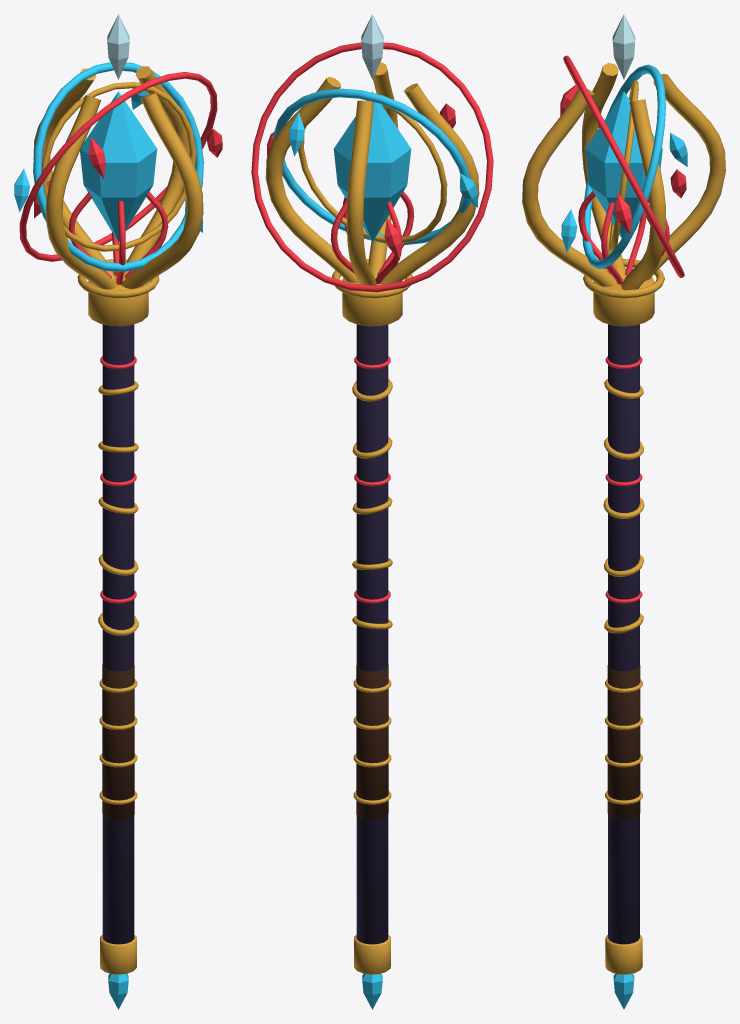
The model's file is magic_staff_t3.obj.
3 views of the same model, side by side, from view 1: azimuth 30°, elevation 25°; view 2: azimuth 150°, elevation 25°; view 3: azimuth 270°, elevation 25° (orthographic).
Visible parts, largest first — view 1: Shaft, CoreOuter, Grip, Claw_3, HaloA, Claw_2, HaloB, GoldHalo, Claw_0, Collar, Claw_1, Pommel (+5 smaller); view 2: Shaft, HaloB, CoreOuter, Grip, Claw_0, HaloA, Claw_2, Claw_1, GoldHalo, Collar, Claw_3, Pommel (+1 smaller); view 3: Shaft, Grip, Claw_3, CoreOuter, Claw_1, Claw_0, HaloA, Claw_2, Collar, HaloB, Pommel, Spire (+5 smaller).
Part boxes in pixels (x1,y1,x2,y2): Shaft: (102, 324, 134, 944); CoreOuter: (80, 91, 157, 241); Grip: (102, 664, 134, 820); Claw_3: (121, 92, 203, 288); HaloA: (33, 62, 203, 272); Claw_2: (45, 95, 117, 289); HaloB: (19, 72, 217, 261); GoldHalo: (41, 82, 196, 251); Claw_0: (123, 66, 189, 279); Collar: (88, 271, 148, 326); Claw_1: (33, 68, 115, 279); Pommel: (100, 935, 136, 974); Shaft: (356, 324, 388, 944); HaloB: (251, 42, 493, 292); CoreOuter: (333, 91, 411, 241); Grip: (356, 664, 388, 820); Claw_0: (265, 77, 358, 282); HaloA: (273, 88, 470, 245); Claw_2: (380, 83, 479, 284); Claw_1: (346, 100, 376, 285); GoldHalo: (298, 106, 447, 243); Collar: (342, 278, 402, 326); Claw_3: (368, 62, 397, 278); Pommel: (354, 935, 390, 974); Shaft: (608, 324, 639, 944); Grip: (607, 665, 640, 820); Claw_3: (522, 88, 617, 286); CoreOuter: (585, 91, 662, 238); Claw_1: (645, 73, 725, 280); Claw_0: (621, 99, 665, 290); HaloA: (582, 64, 665, 268); Claw_2: (582, 63, 626, 278); Collar: (593, 268, 654, 326); HaloB: (563, 55, 684, 277); Pommel: (605, 935, 642, 974); Spire: (612, 14, 635, 79).
Bounding box in the file's own units: 0.4181 × 1.87 × 0.3468.
